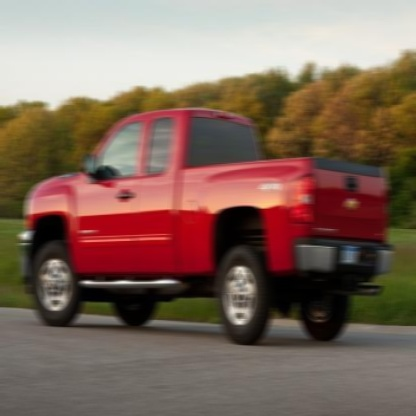Vehicle: (19, 106, 391, 352)
